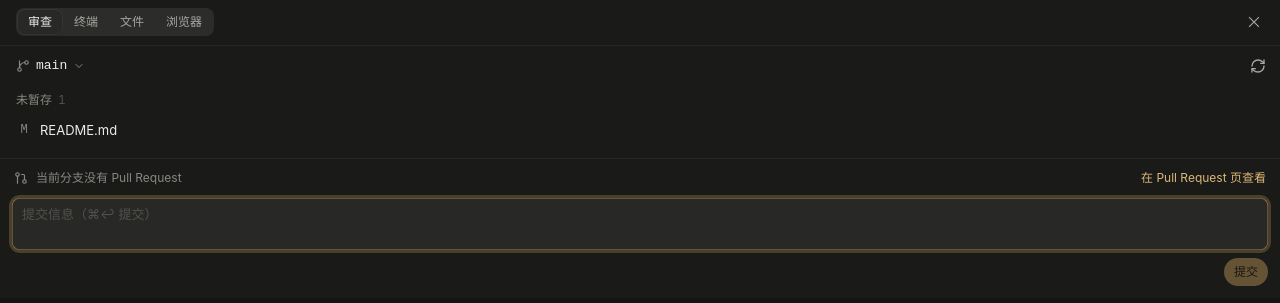
WorkspacePanel › requestWorkspace({ pane: review, focus: commit }) focuses the commit box
Expected: the text box with placeholder "提交信息（⌘↩ 提交）" is shown, [12,198,1268,250]
Click the tab "文件": [132, 22] box [110,10,154,34]
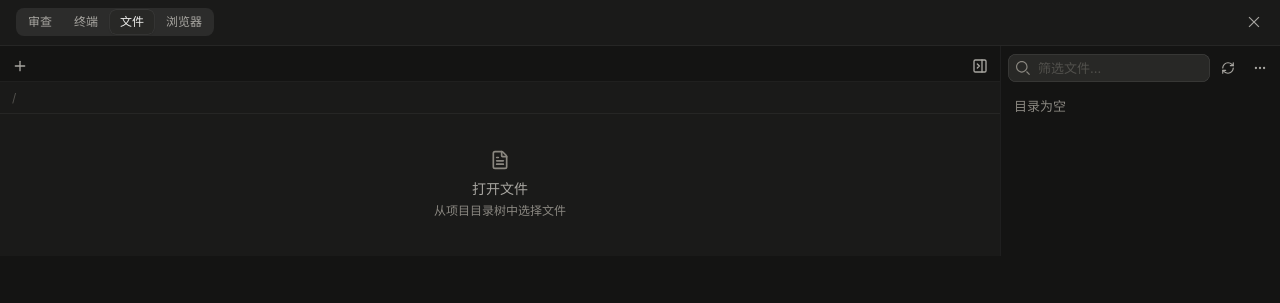
Click the tab "审查": [40, 22] box [18,10,62,34]
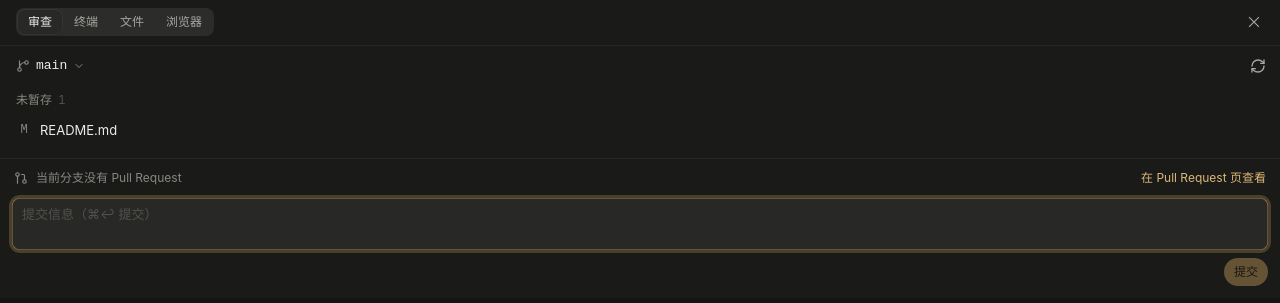
Expected: the text box with placeholder "提交信息（⌘↩ 提交）" is shown, [12,198,1268,250]
